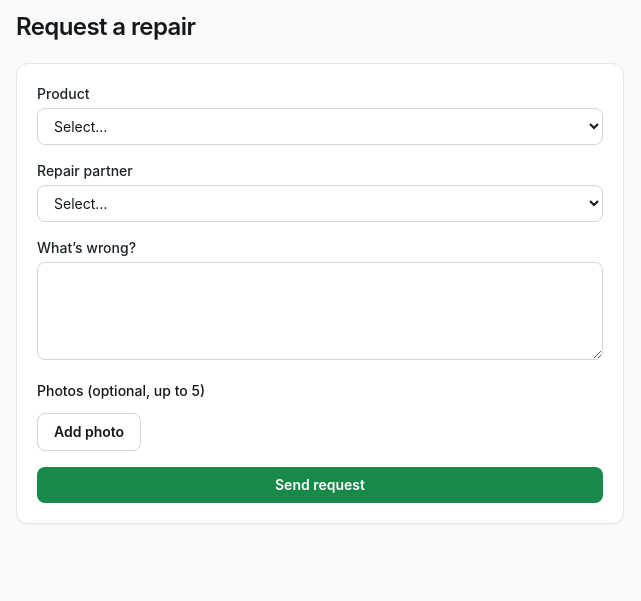
repair booking flow › validates required fields before submitting
The width and height of the screenshot is (641, 601).
Step 1. Click the button "Send request" → point(320, 485), box [37, 467, 603, 503]
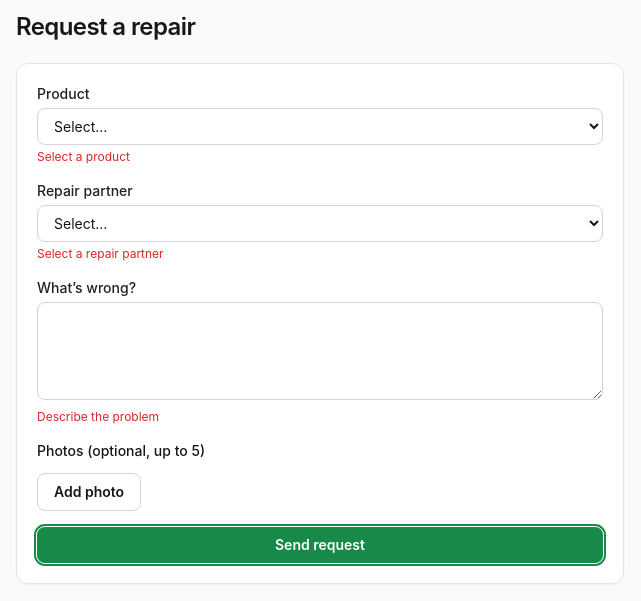
Check: the text "Select a product" is shown, box [37, 149, 130, 164]
Check: the text "Select a repair partner" is shown, box [37, 246, 164, 261]
Check: the text "Describe the problem" is shown, box [37, 409, 159, 424]
